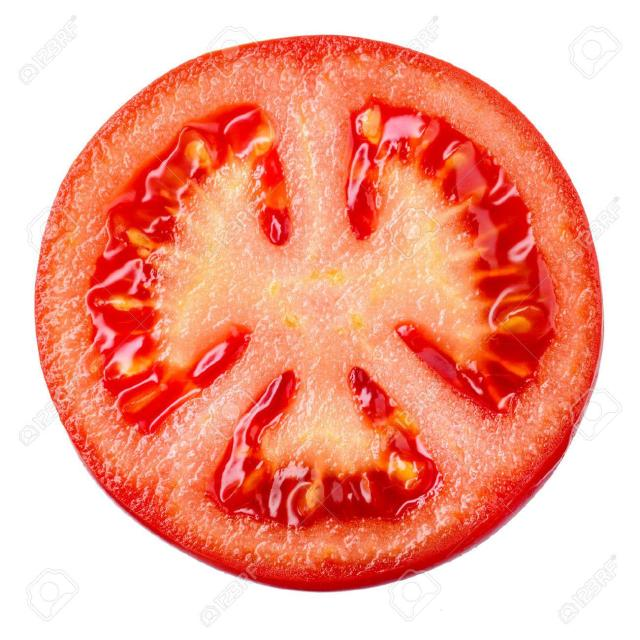Tomato: (36, 35, 604, 602)
